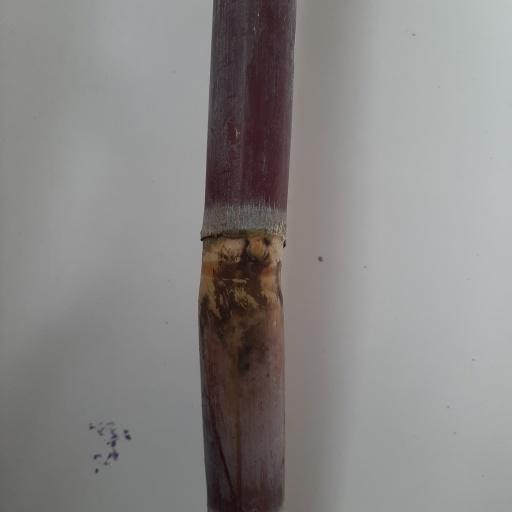Bud: (246, 234, 270, 262)
